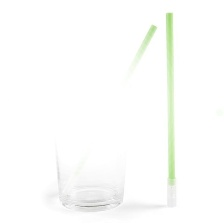drinking_straw: (57, 19, 158, 198), (159, 8, 181, 210)
glass: (42, 73, 136, 215)
